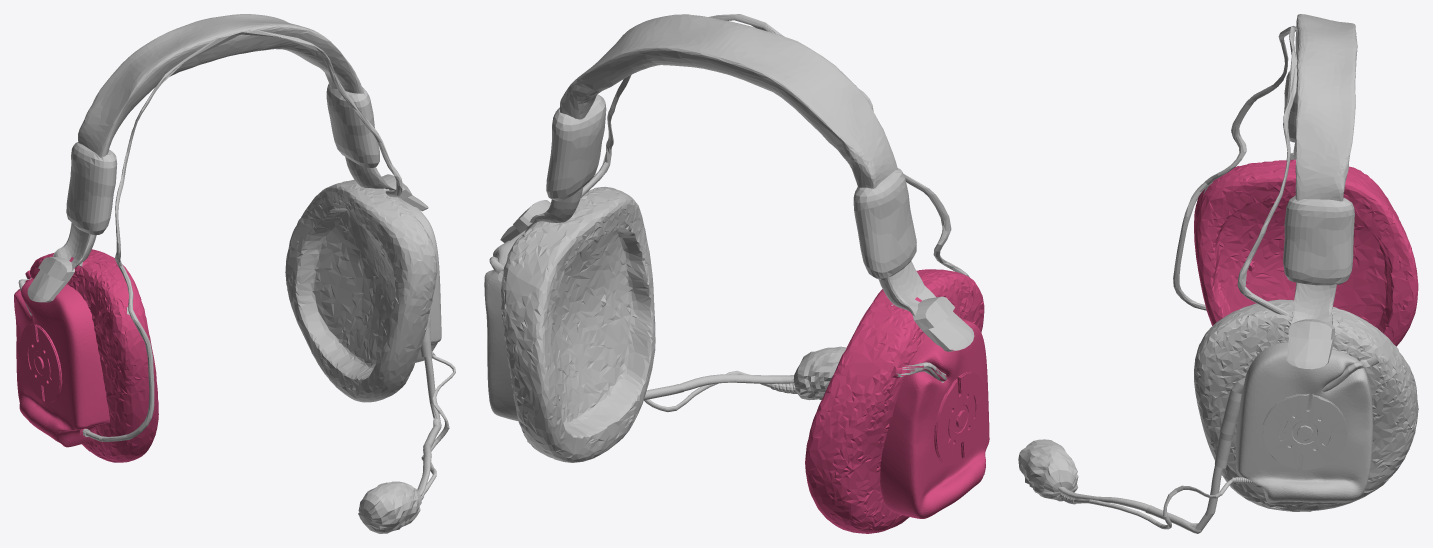
The model's file is interactive_2_2.glb.
The picture shows the model from 3 angles, left to right: view 1: azimuth 30°, elevation 25°; view 2: azimuth 150°, elevation 25°; view 3: azimuth 270°, elevation 25°; orthographic projection. The views are drawn at different scales.
Visible parts, largest first — view 1: pred_target_mesh.ply; view 2: pred_target_mesh.ply; view 3: pred_target_mesh.ply.
Boxes of the visible parts, x1,y1,x2,y2 form: pred_target_mesh.ply: (14,14,455,533); pred_target_mesh.ply: (484,14,989,533); pred_target_mesh.ply: (1018,14,1418,533).
Size of the model in its own units: 0.6015 by 0.616 by 0.5086.
